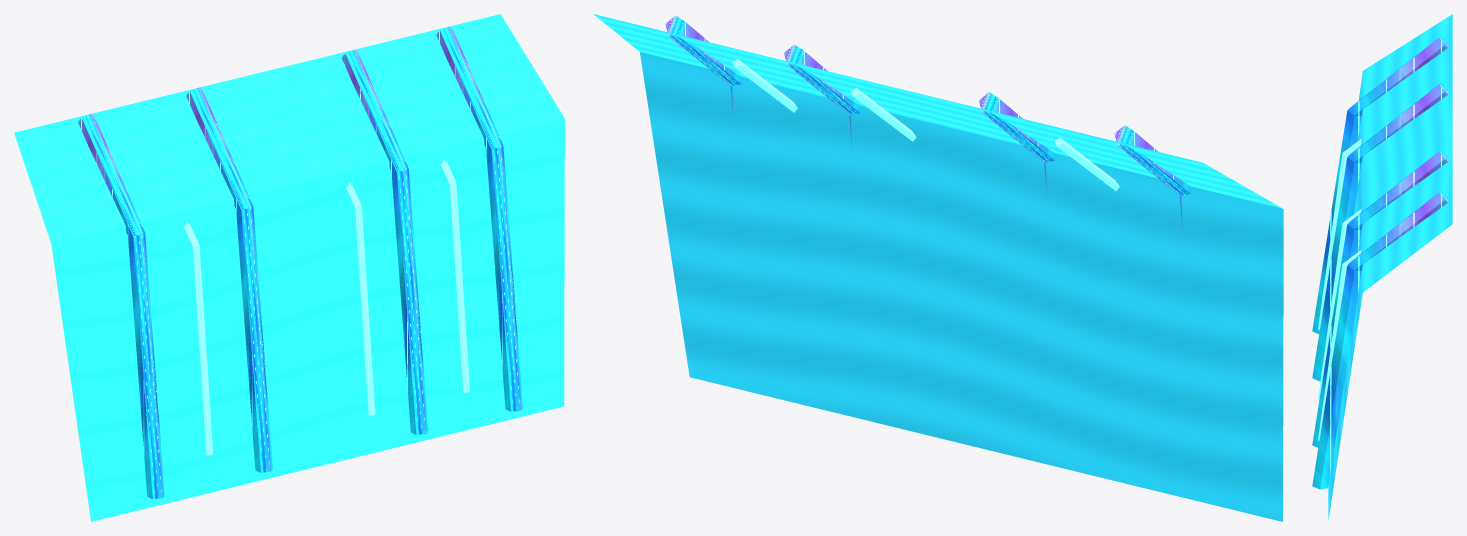
File: forest_waterfall.glb
3 views of the same model, side by side, from view 1: azimuth 30°, elevation 25°; view 2: azimuth 150°, elevation 25°; view 3: azimuth 270°, elevation 25° (orthographic). The views are drawn at different scales.
Visible parts, largest first — view 1: Opaque stylized waterfall, Waterfall foam streak.003, Waterfall foam streak.001, Waterfall foam streak.002, Waterfall foam streak, Waterfall fine streak, Waterfall fine streak.001, Waterfall fine streak.002; view 2: Opaque stylized waterfall, Waterfall foam streak, Waterfall foam streak.001, Waterfall foam streak.003, Waterfall foam streak.002; view 3: Opaque stylized waterfall, Waterfall foam streak.003, Waterfall foam streak.001, Waterfall foam streak, Waterfall foam streak.002, Waterfall fine streak, Waterfall fine streak.001, Waterfall fine streak.002.
Part boxes in pixels (left/top/right/bottom): Opaque stylized waterfall: left=14, top=14, right=564, bottom=521; Waterfall foam streak.003: left=436, top=26, right=522, bottom=411; Waterfall foam streak.001: left=186, top=87, right=272, bottom=472; Waterfall foam streak.002: left=341, top=49, right=428, bottom=434; Waterfall foam streak: left=78, top=113, right=164, bottom=499; Waterfall fine streak: left=184, top=222, right=213, bottom=455; Waterfall fine streak.001: left=346, top=183, right=375, bottom=415; Waterfall fine streak.002: left=441, top=160, right=469, bottom=392; Opaque stylized waterfall: left=593, top=14, right=1283, bottom=521; Waterfall foam streak: left=1114, top=125, right=1190, bottom=233; Waterfall foam streak.001: left=978, top=92, right=1055, bottom=199; Waterfall foam streak.003: left=665, top=15, right=741, bottom=120; Waterfall foam streak.002: left=784, top=44, right=860, bottom=150; Opaque stylized waterfall: left=1328, top=14, right=1452, bottom=520; Waterfall foam streak.003: left=1312, top=190, right=1448, bottom=489; Waterfall foam streak.001: left=1312, top=82, right=1448, bottom=381; Waterfall foam streak: left=1312, top=36, right=1448, bottom=333; Waterfall foam streak.002: left=1312, top=150, right=1448, bottom=447; Waterfall fine streak: left=1318, top=139, right=1361, bottom=329; Waterfall fine streak.001: left=1318, top=209, right=1361, bottom=399; Waterfall fine streak.002: left=1318, top=250, right=1361, bottom=440.
Bounding box in the file's own units: 0.76 × 0.4906 × 0.2033.
3 materials, 2 textured.
